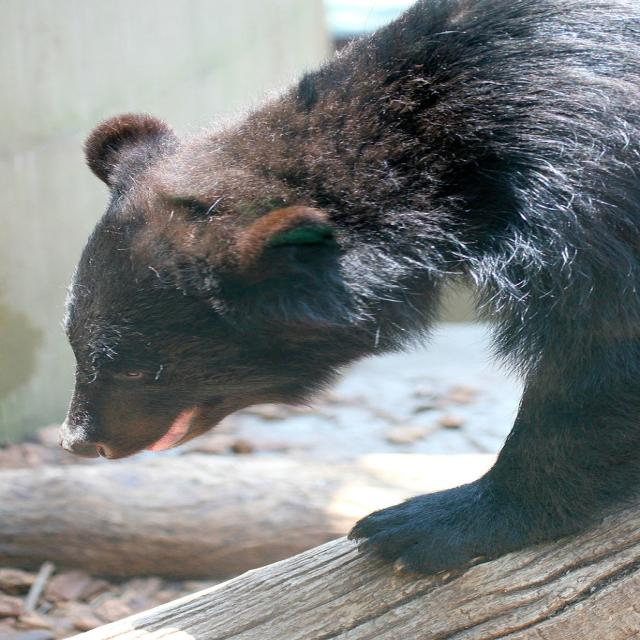Buffalo: (52, 0, 640, 577)
